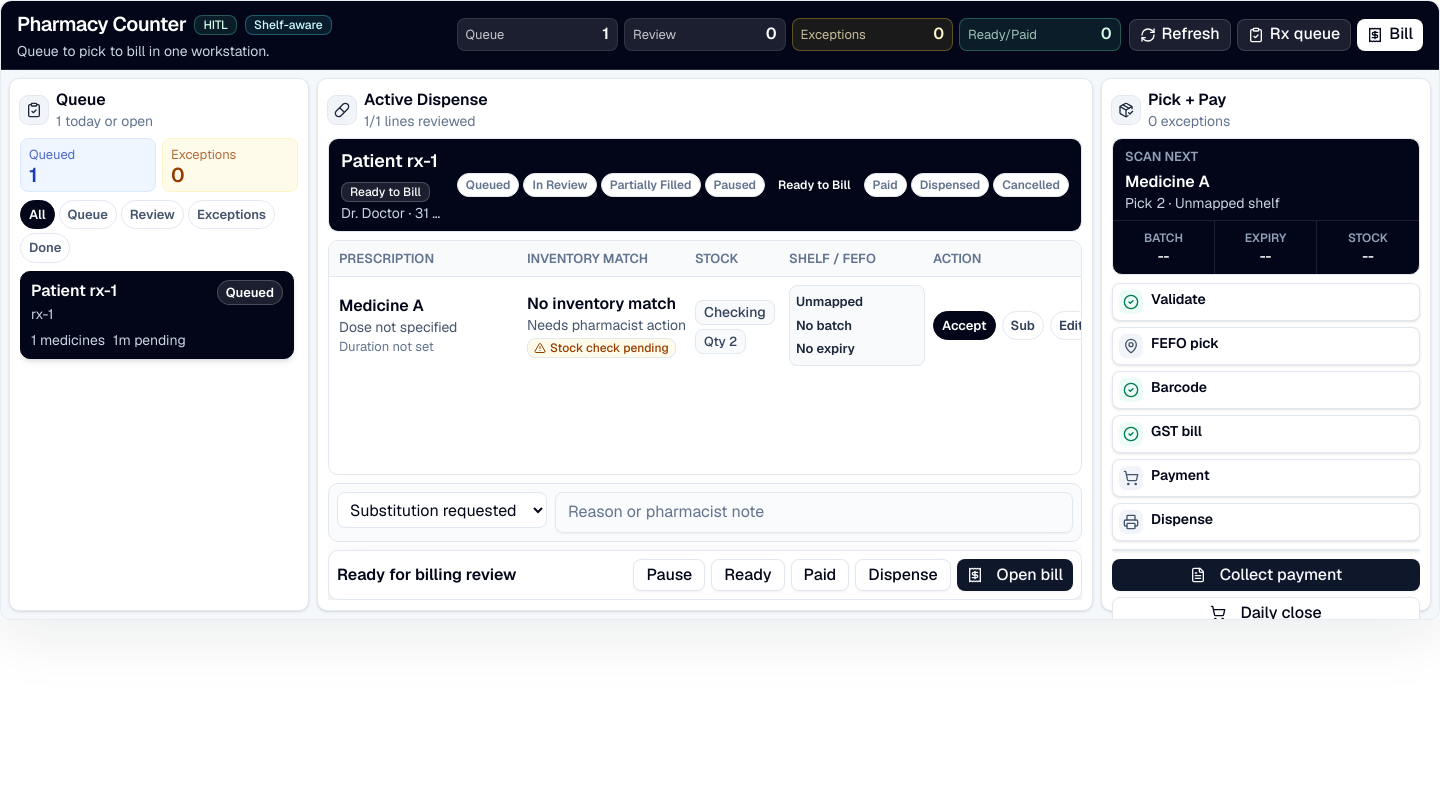
Test case: rechecks saved reviews after creating a task before marking it Ready
Expected: the text "1/1 lines reviewed" is shown, left=364, top=112, right=488, bottom=130
Step 1. Click the button "Ready" → (748, 575), box left=711, top=559, right=784, bottom=591
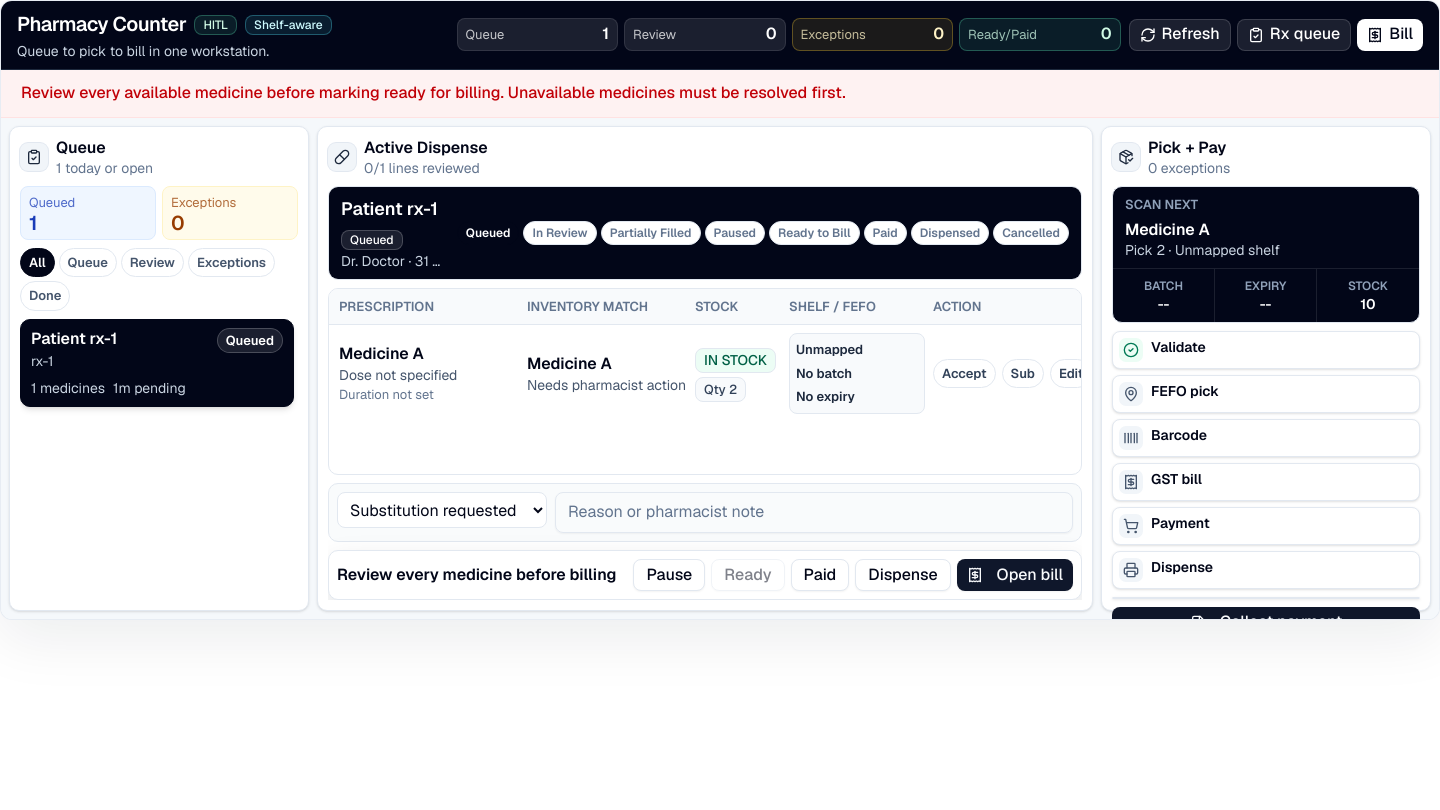
Expected: the message shows "Review every available medicine before marking ready for billing", left=21, top=82, right=846, bottom=103
Expected: the text "0/1 lines reviewed" is shown, left=364, top=160, right=488, bottom=178
Expected: the button "Ready" is disabled, left=711, top=559, right=784, bottom=591
